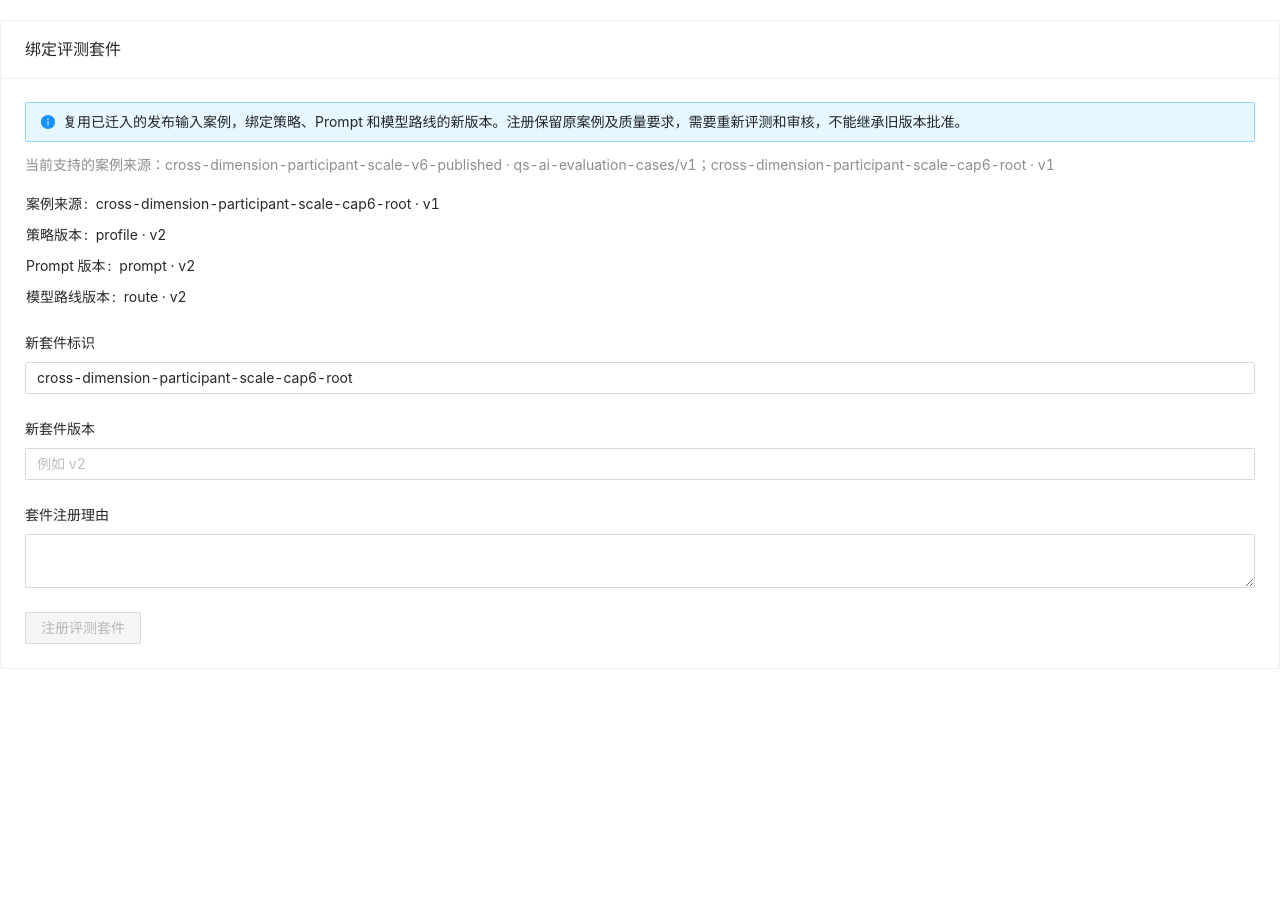
Test: registers the exact cap6 root and rejects drift or replacement of either root
Replace the text in the field named "新套件标识" with "native-suite" at {"x": 640, "y": 378}, box [25,362,1255,394]
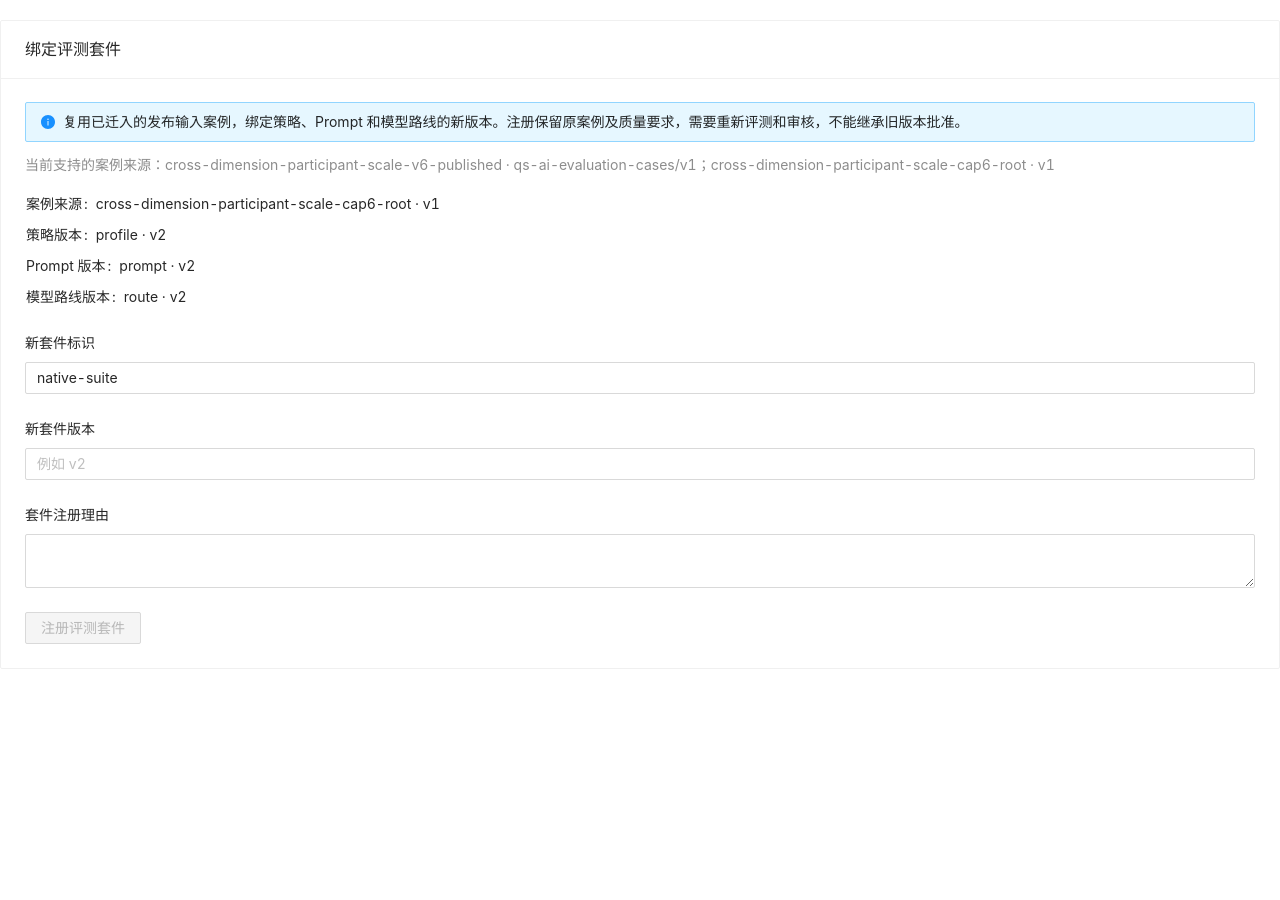
Type "v2" into the field named "新套件版本" at {"x": 640, "y": 464}, box [25,448,1255,480]
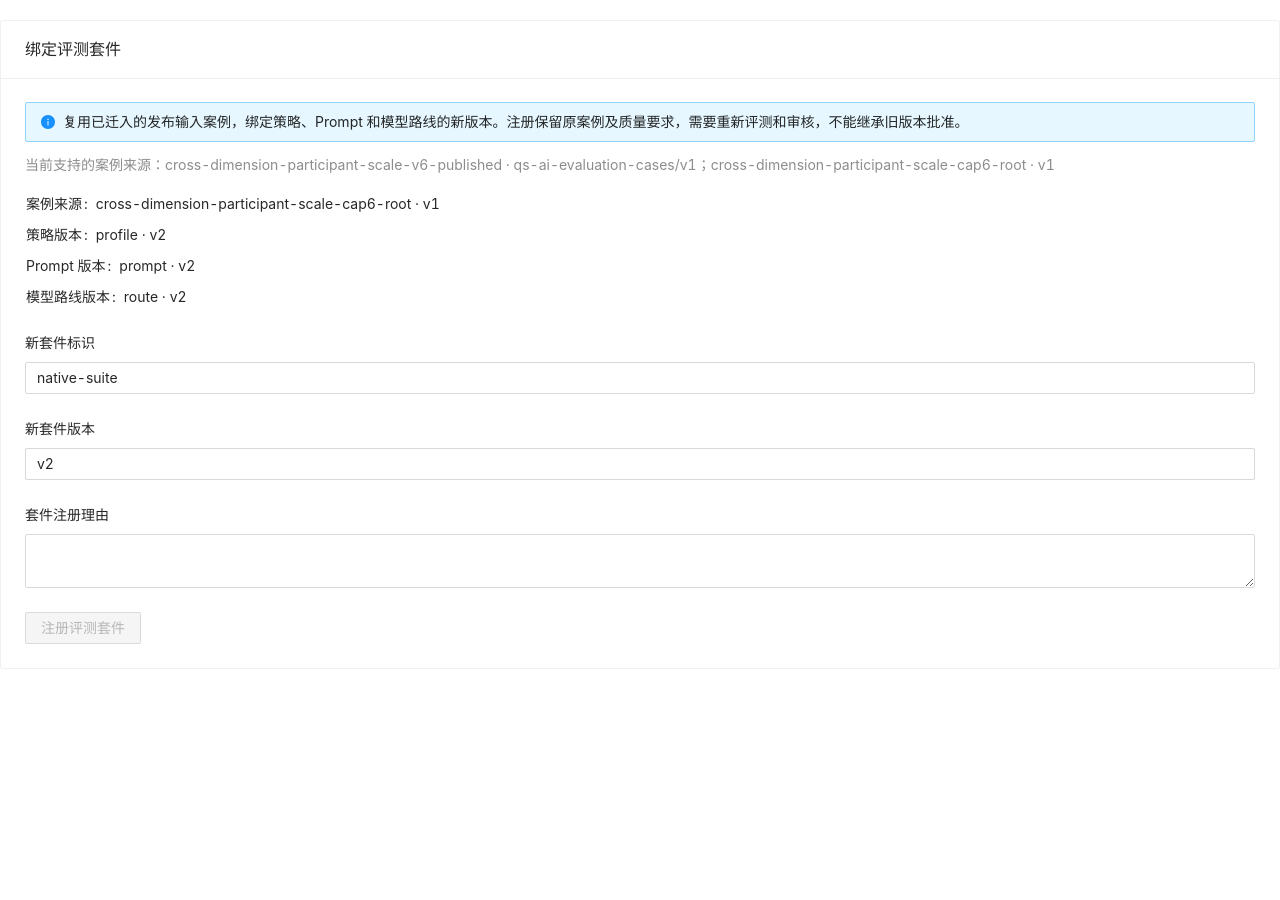
Type "评测新策略版本" into the text box named "套件注册理由" at {"x": 640, "y": 561}, box [25,534,1255,588]
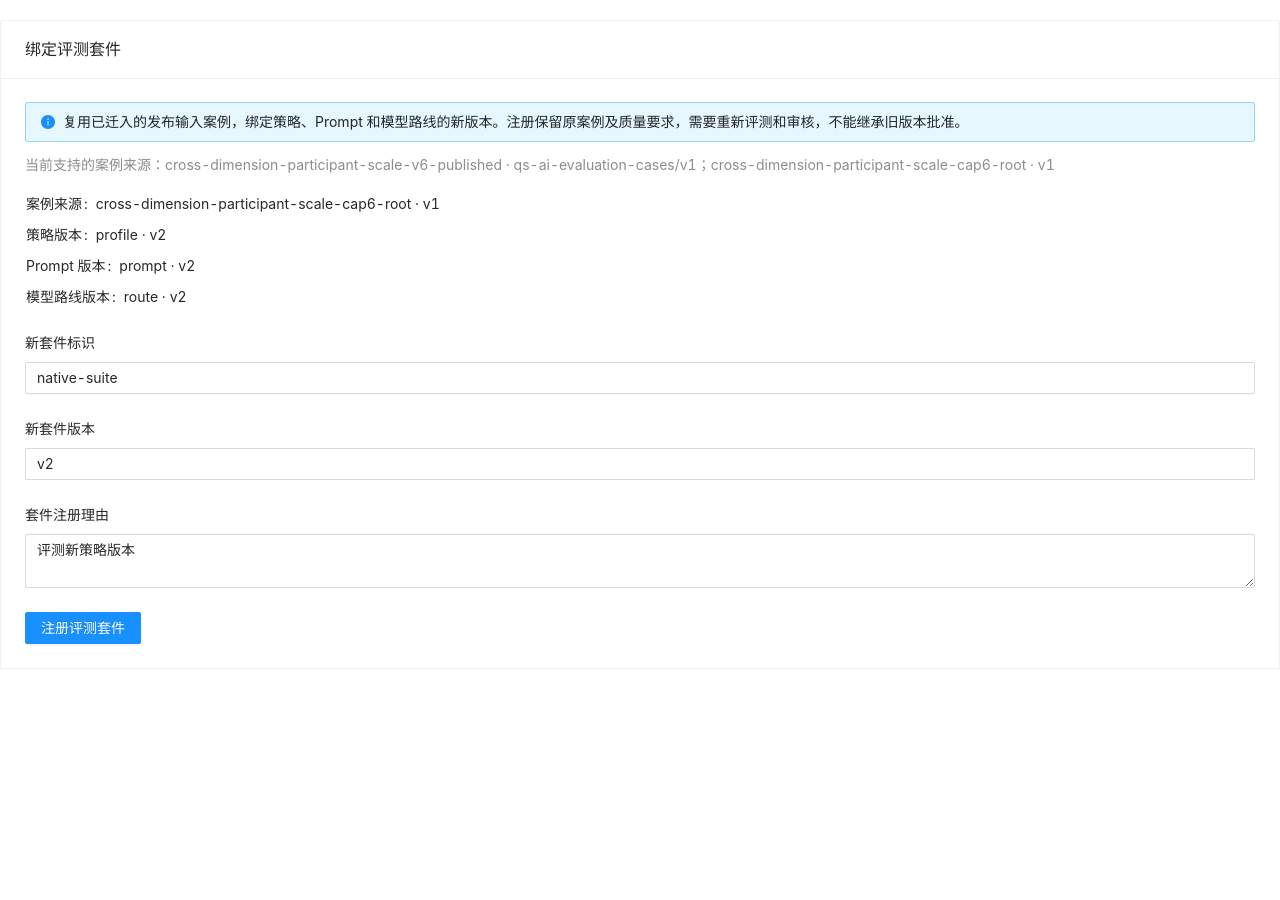
Click the button "注册评测套件" at {"x": 83, "y": 628}, box [25,612,141,644]
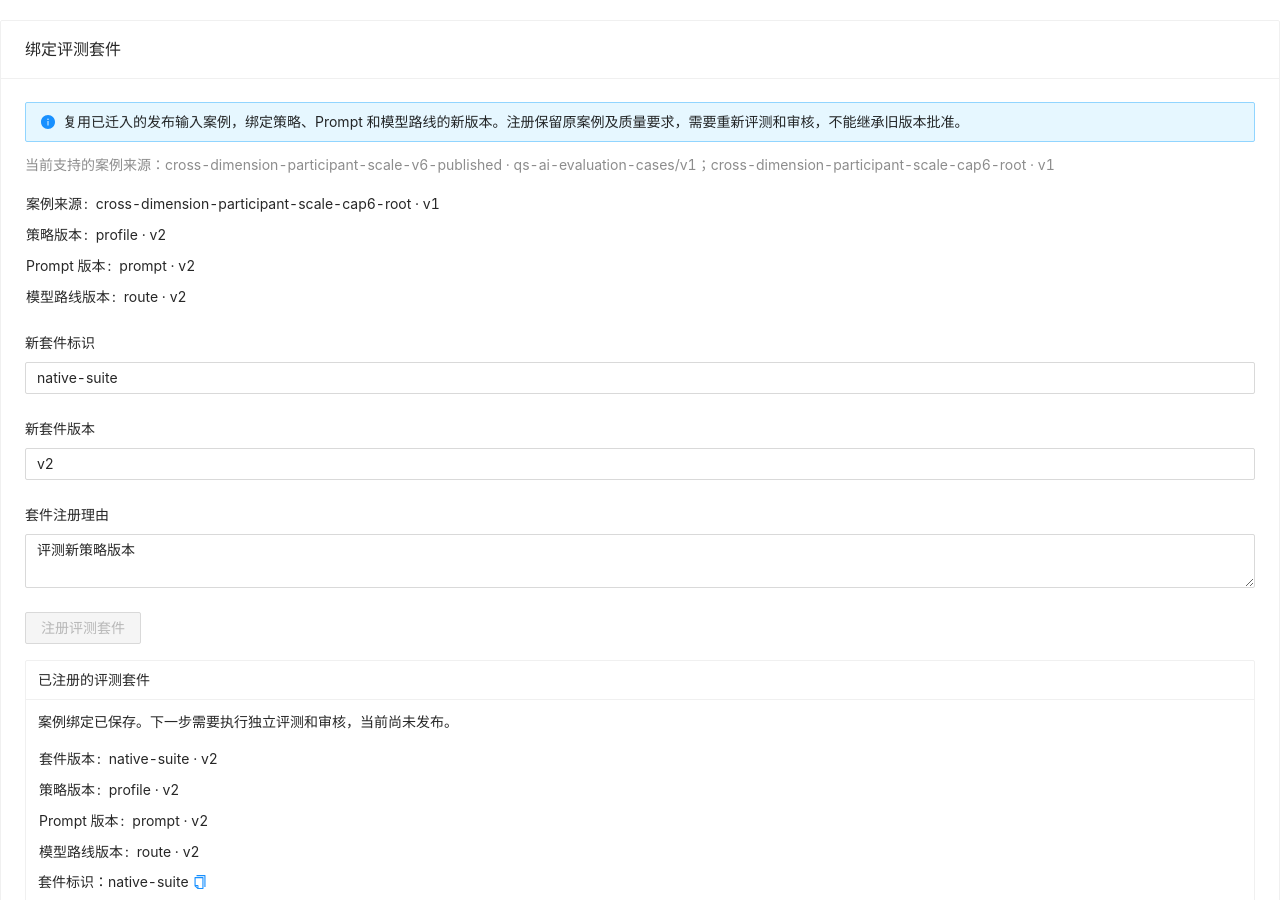
expect the text "已注册的评测套件" is shown: met, box [38,671,150,688]
